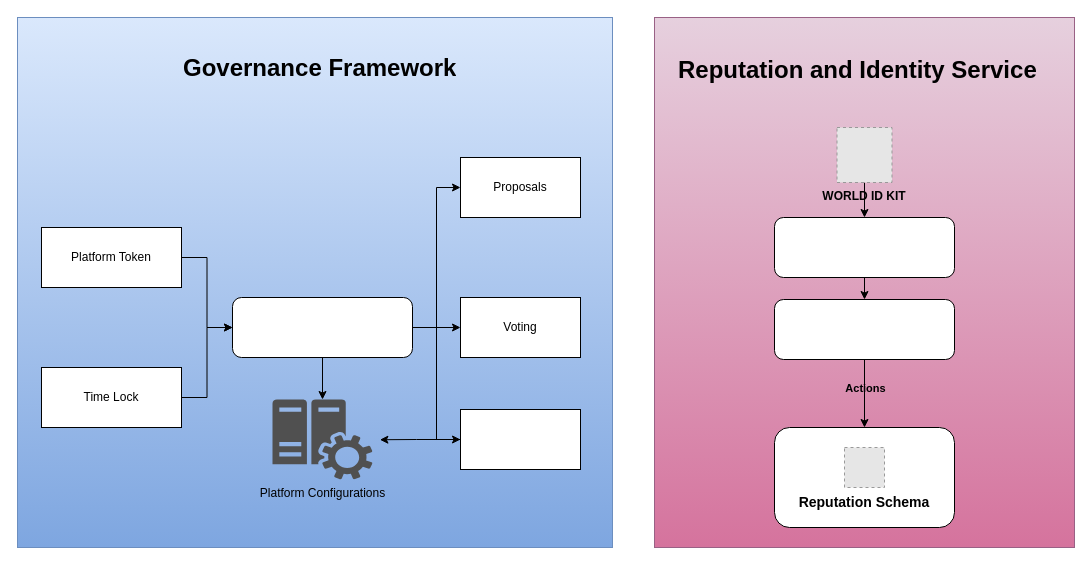
Image size: 1092x565. Some labels were removed from this diagram. Grey dashed boxes stand in for pictures. The centre of each missing label's shape, as x and y in pixels:
"Execution" belongs at pixel 520 439.
"Governace Contarct" belongs at pixel 322 327.
"Platform Identity" belongs at pixel 864 329.
"Proof Of Human" belongs at pixel 864 247.
